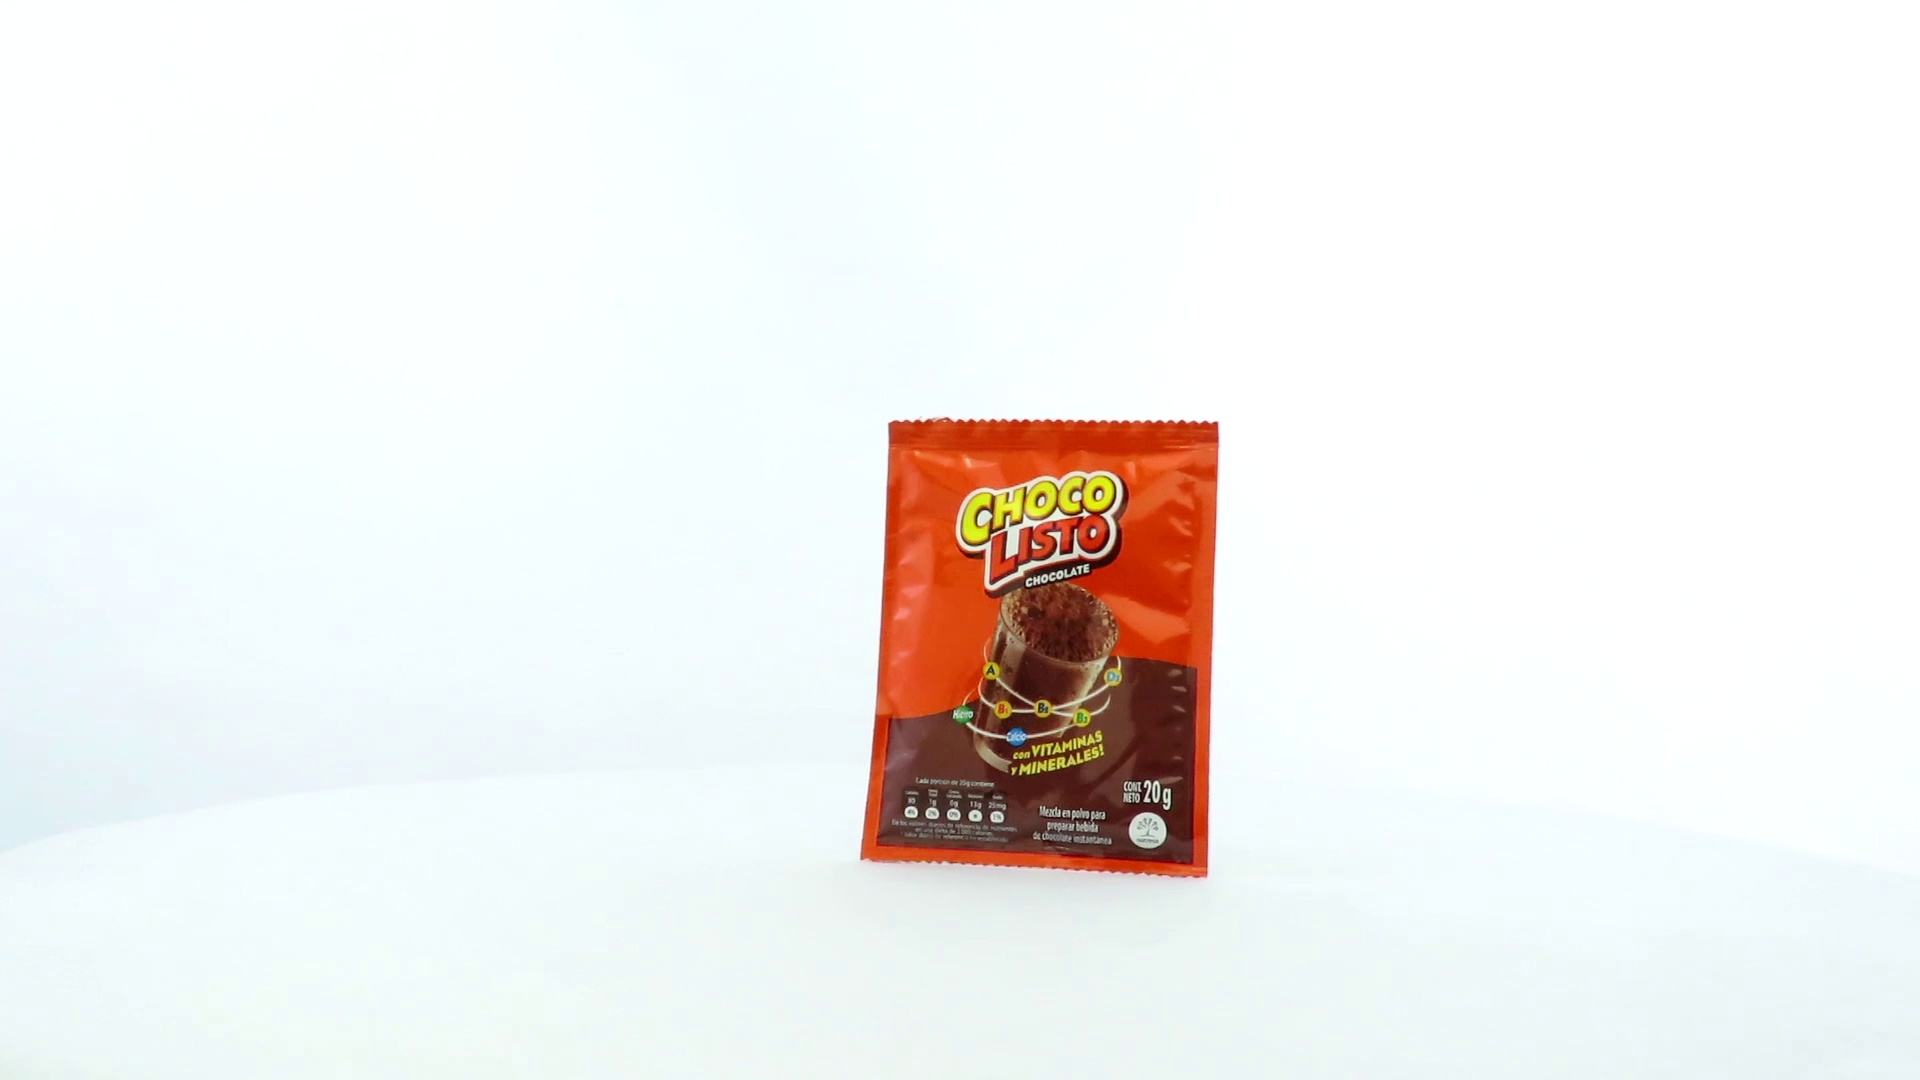COL0170103SOB02000: (855, 411, 1226, 884)
